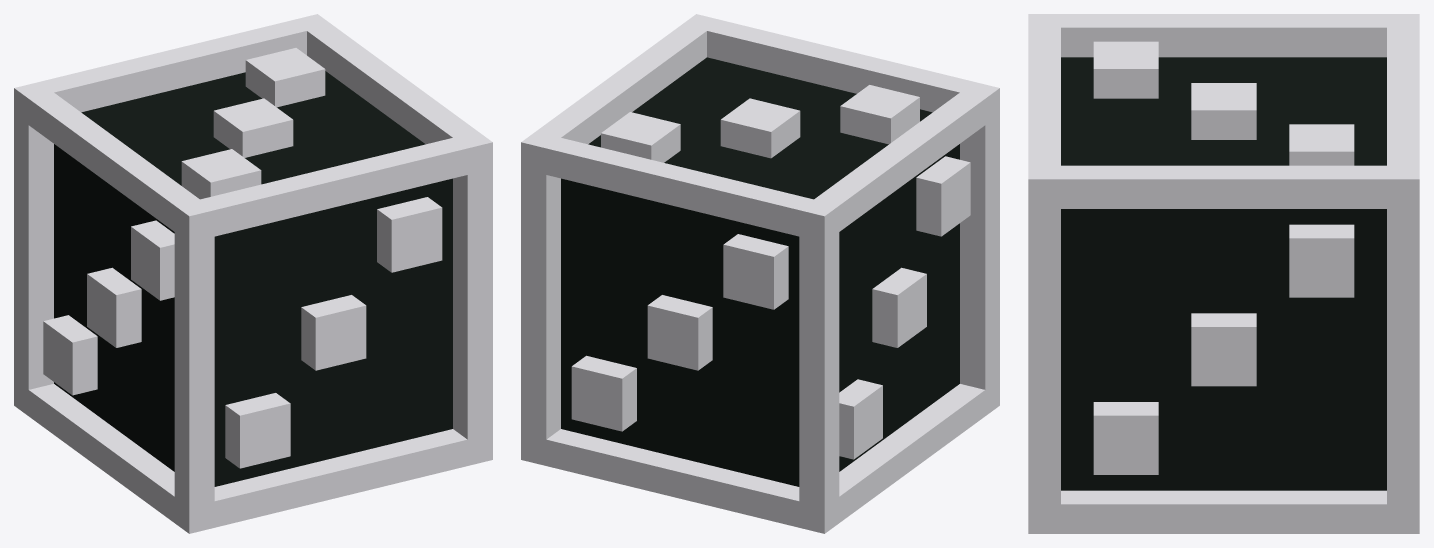
File: 2d_point.obj
3 views of the same model, side by side, from view 1: azimuth 30°, elevation 25°; view 2: azimuth 150°, elevation 25°; view 3: azimuth 270°, elevation 25° (orthographic). The views are drawn at different scales.
Size of the model in its own units: 1.2 by 1.2 by 1.2.
1 material, 1 textured.
